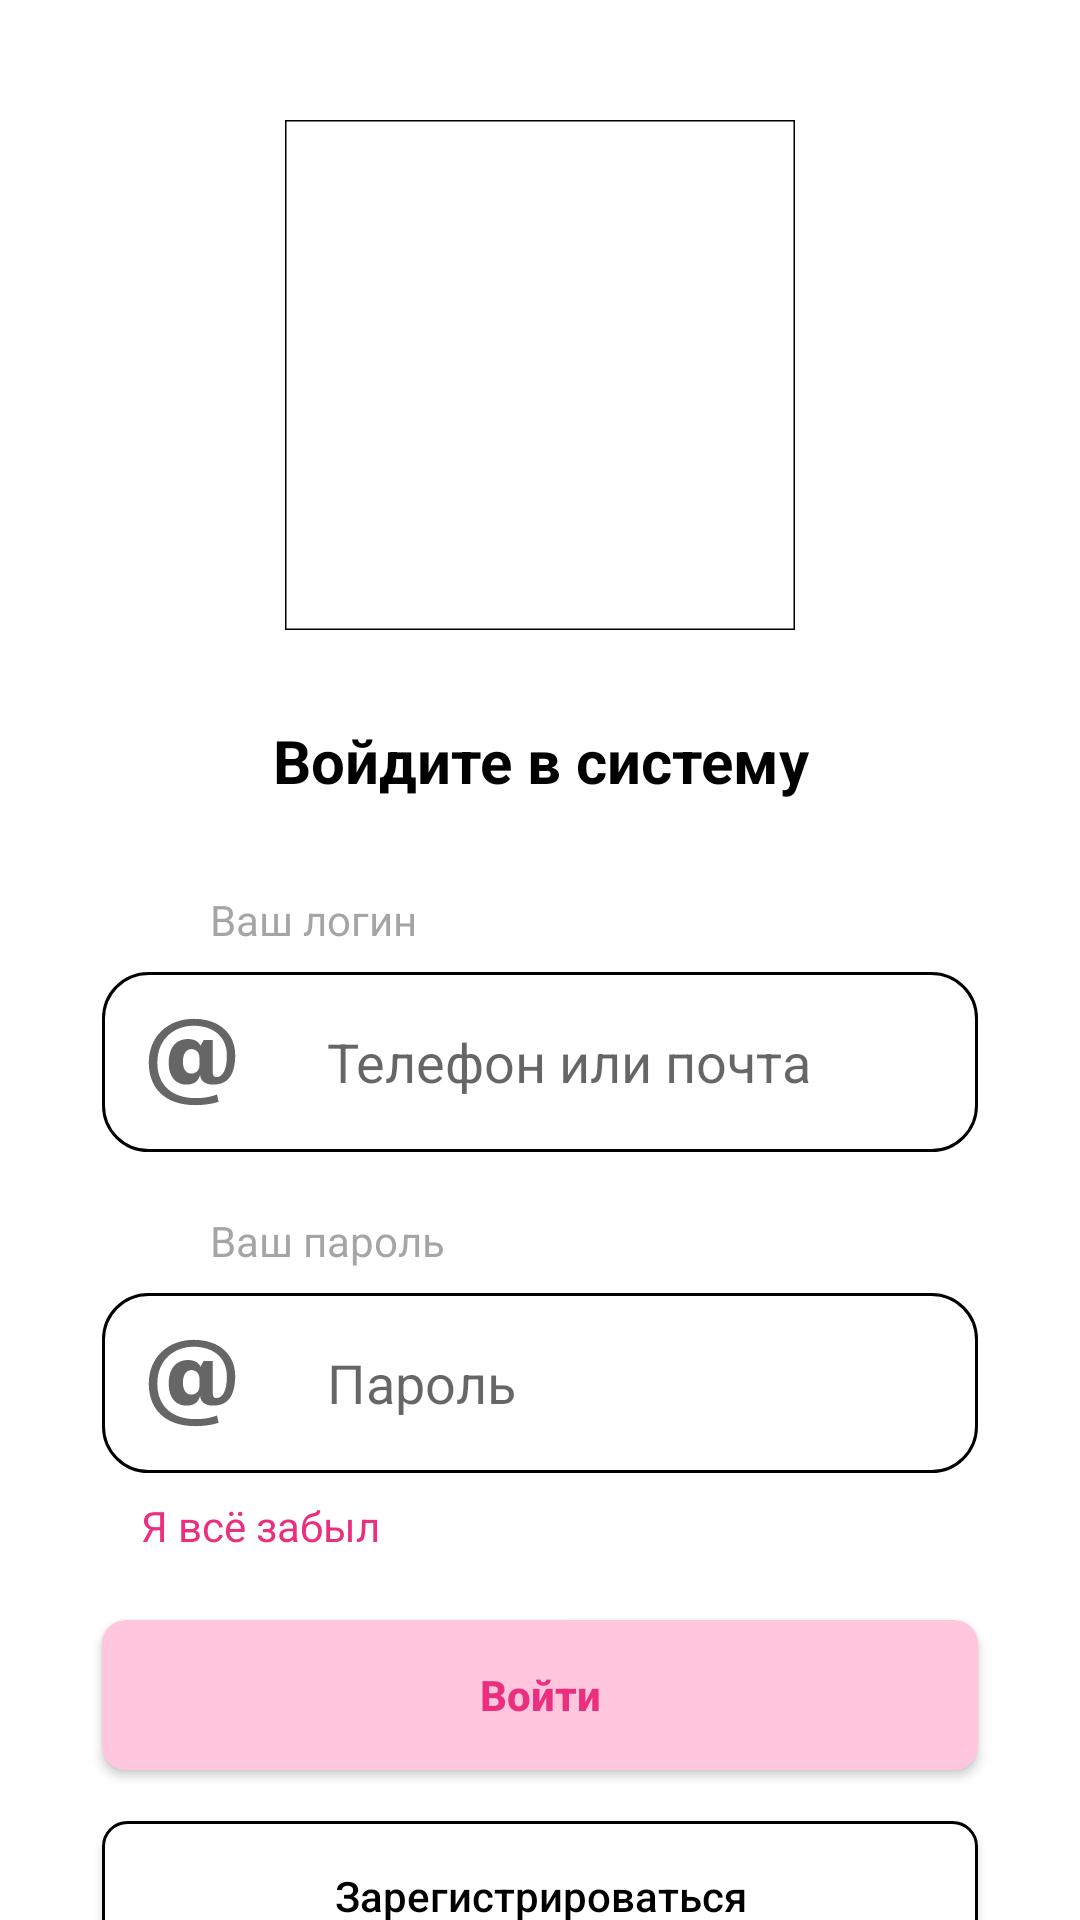

Where to tap for icons on this 1080w x 1920h app screen, as (x,y):
email: (192,1062), (192,1383)
